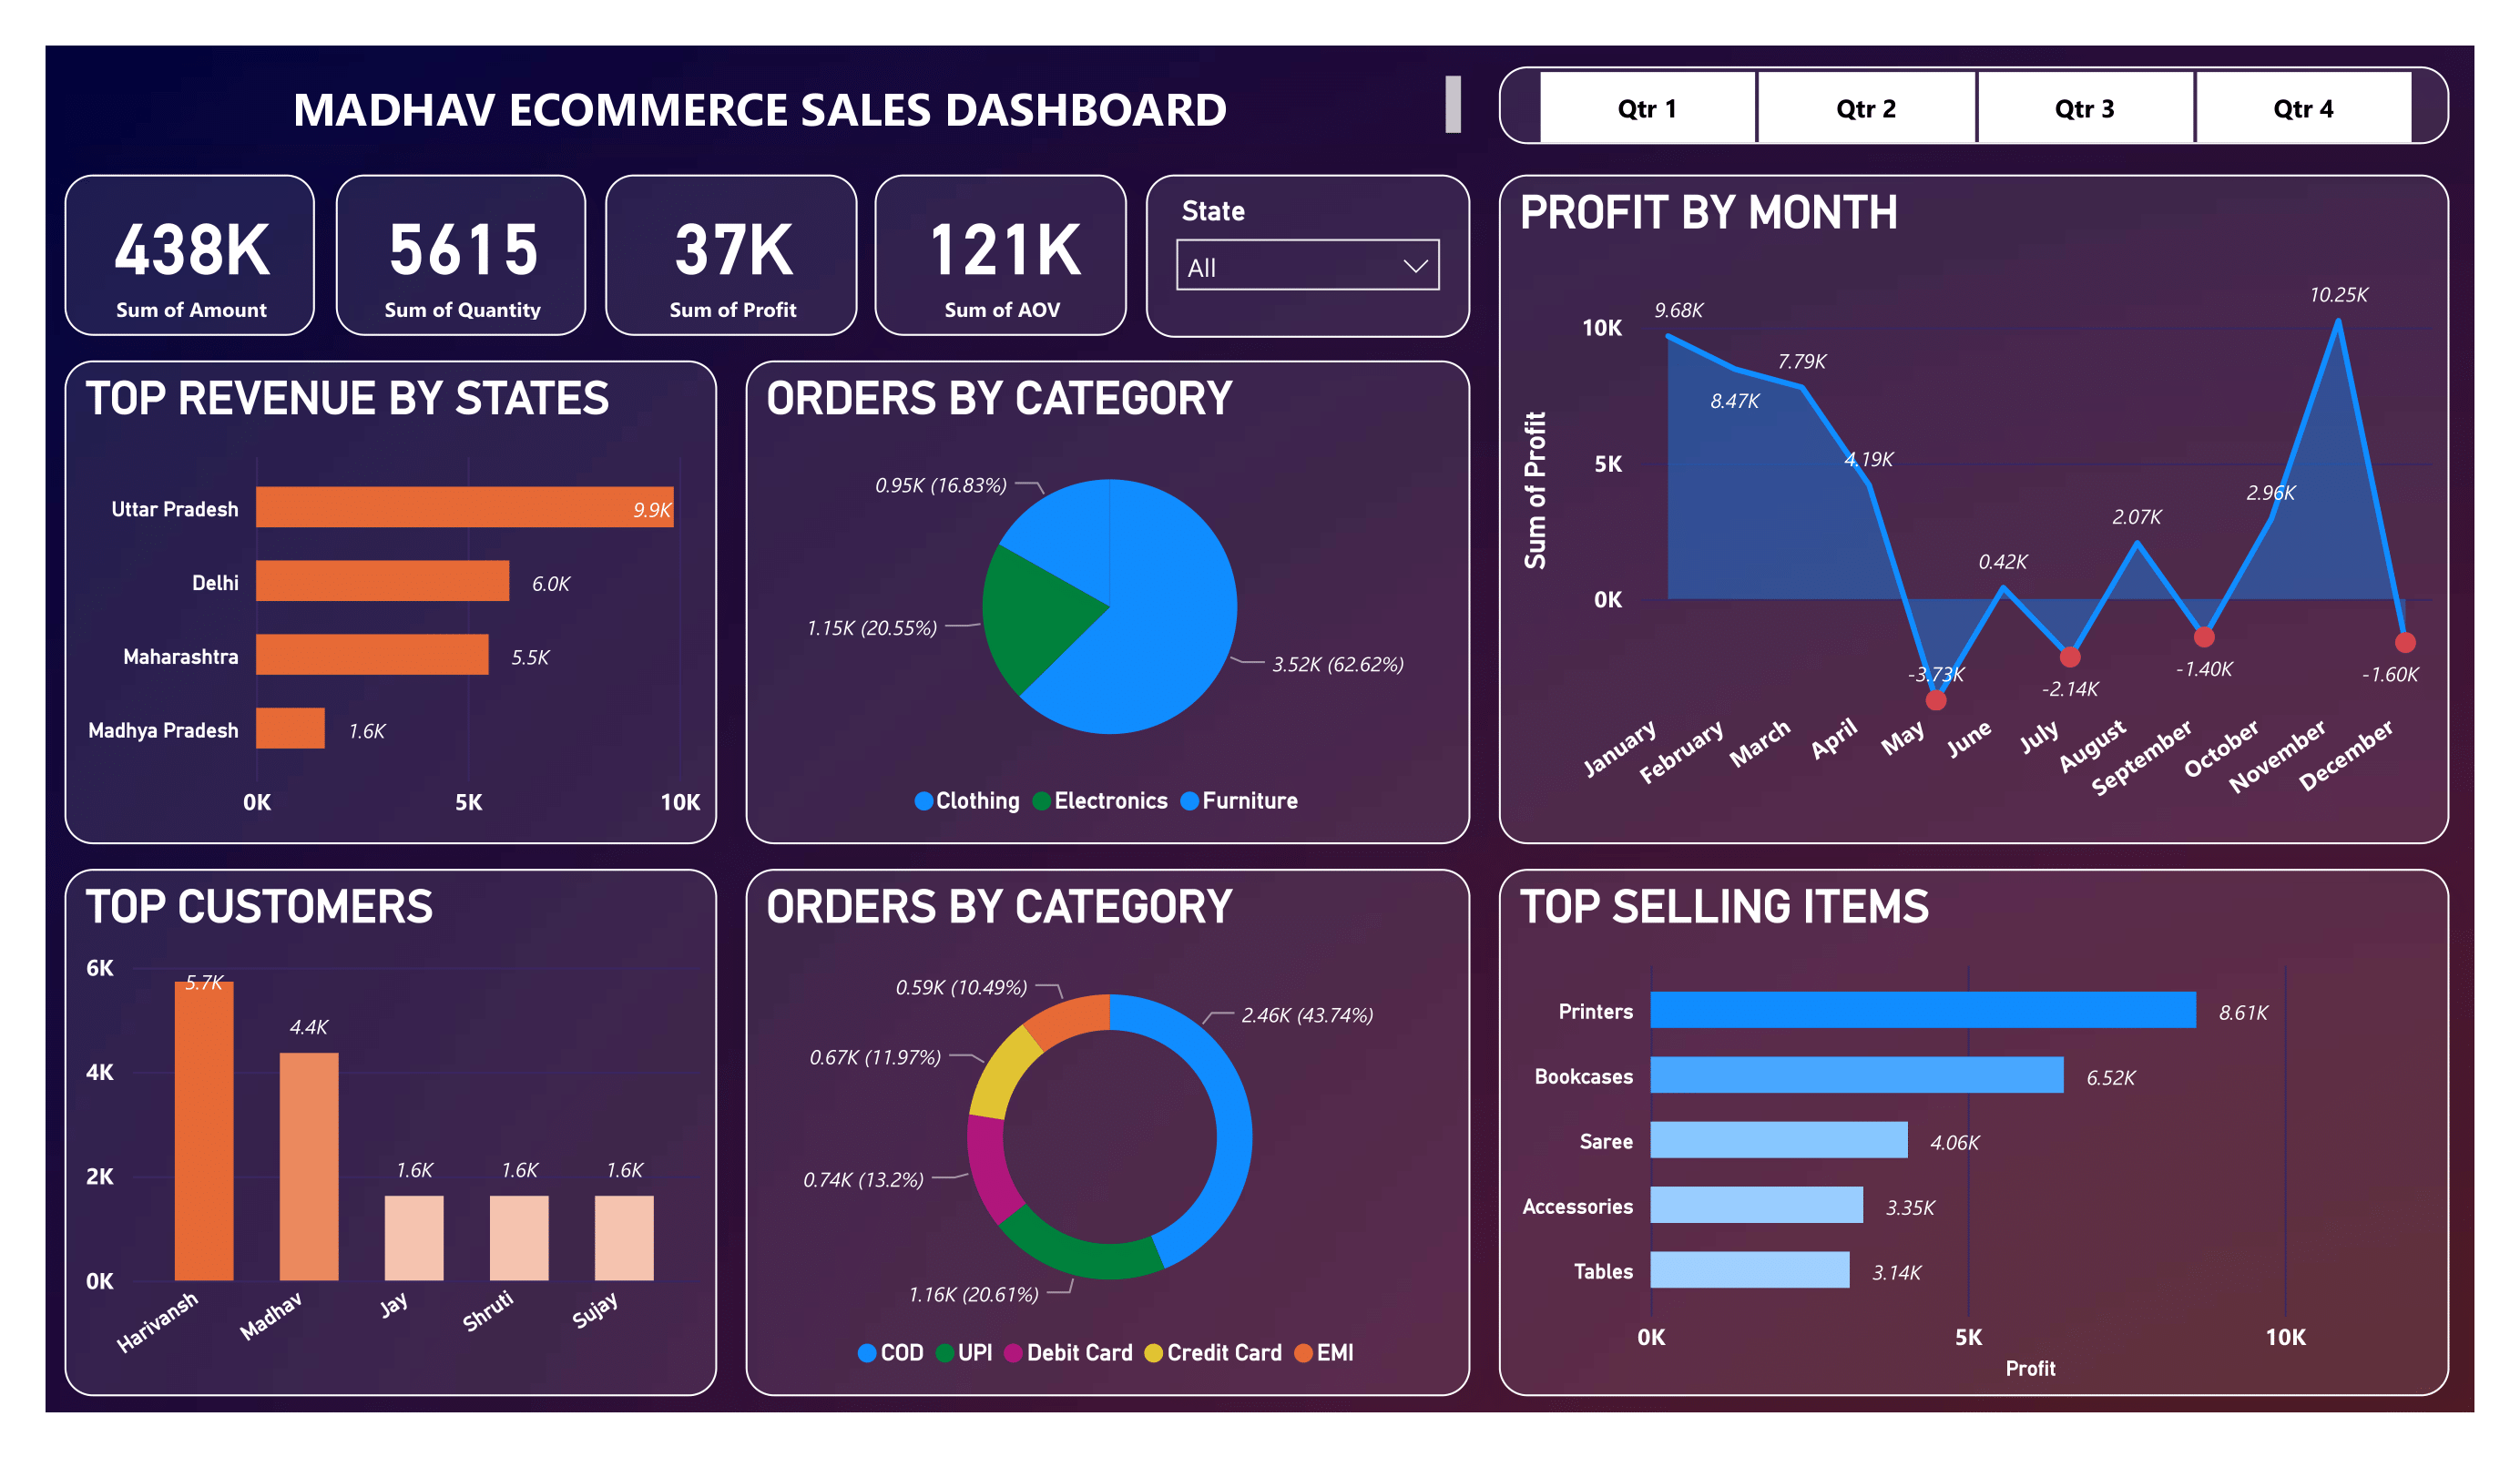

This screenshot's page, from the dashboard's own definition file:
{"tool":"powerbi","page":{"name":"Page 1","canvas":[1280,720],"ordinal":0},"visuals":[{"type":"textbox","box":[9.7,10.7,741.6,41.8],"z":0},{"type":"areaChart","title":"PROFIT BY MONTH","fields":{"Category":["Orders.Order Date.Variation.Date Hierarchy.Month","Orders.Order Date.Variation.Date Hierarchy.Day"],"Y":["Details.Profit"]},"box":[765.7,67.6,501.4,353],"z":1000},{"type":"barChart","title":"TOP SELLING ITEMS","fields":{"Category":["Details.Sub-Category"],"Y":["Details.Profit"]},"box":[765.9,434.4,501.5,278],"z":2000},{"type":"donutChart","title":"ORDERS BY CATEGORY","fields":{"Category":["Details.Category"],"Y":["Details.Quantity"]},"box":[369.3,166.2,382,254.6],"z":3000},{"type":"donutChart","title":"ORDERS BY CATEGORY","fields":{"Y":["Details.Quantity"],"Category":["Details.PaymentMode"]},"box":[369.3,434.4,382,278],"z":4000},{"type":"card","fields":{"Values":["Details.Amount"]},"box":[9.7,67.6,132.6,85.2],"z":5000},{"type":"card","fields":{"Values":["Details.Quantity"]},"box":[152.8,67.6,132.6,85.2],"z":6000},{"type":"card","fields":{"Values":["Details.Profit"]},"box":[295,67.6,132.6,85.2],"z":7000},{"type":"card","fields":{"Values":["Details.AOV"]},"box":[437.3,67.6,132.6,85.2],"z":8000},{"type":"barChart","title":"TOP REVENUE BY STATES","fields":{"Y":["Details.Amount"],"Category":["Orders.State"]},"box":[9.7,166.2,344.1,254.6],"z":9000},{"type":"columnChart","title":"TOP CUSTOMERS","fields":{"Category":["Orders.CustomerName"],"Y":["Details.Amount"]},"box":[9.7,434.4,344.1,278],"z":10000},{"type":"slicer","fields":{"Values":["Orders.Order Date.Variation.Date Hierarchy.Quarter"]},"box":[765.9,10.7,501.5,41.8],"z":11000},{"type":"slicer","fields":{"Values":["Orders.State"]},"box":[580.2,68,171.1,85.5],"z":12000}]}

Visuals, with their boxes on the page's 1280x720 design canvas (x1, y1, x2, y2). These are canvas units, not pixel positions in the 2520x1457 screenshot, which may show the page scaled, cropped or inside an application window:
textbox: <region>10, 11, 751, 52</region>
"PROFIT BY MONTH" areaChart: <region>766, 68, 1267, 421</region>
"TOP SELLING ITEMS" barChart: <region>766, 434, 1267, 712</region>
"ORDERS BY CATEGORY" donutChart: <region>369, 166, 751, 421</region>
"ORDERS BY CATEGORY" donutChart: <region>369, 434, 751, 712</region>
card - Details.Amount: <region>10, 68, 142, 153</region>
card - Details.Quantity: <region>153, 68, 285, 153</region>
card - Details.Profit: <region>295, 68, 428, 153</region>
card - Details.AOV: <region>437, 68, 570, 153</region>
"TOP REVENUE BY STATES" barChart: <region>10, 166, 354, 421</region>
"TOP CUSTOMERS" columnChart: <region>10, 434, 354, 712</region>
slicer - Orders.Order Date.Variation.Date Hierarchy.Quarter: <region>766, 11, 1267, 52</region>
slicer - Orders.State: <region>580, 68, 751, 154</region>
